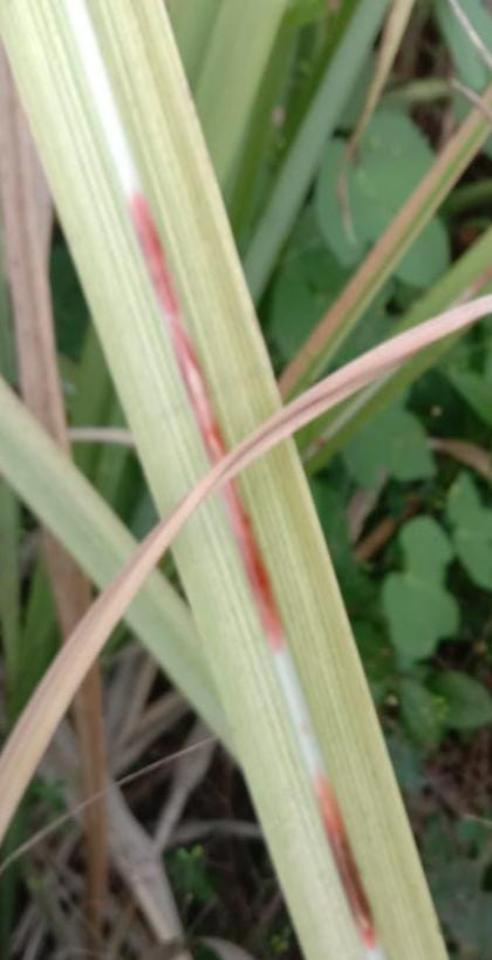RedRot: (129, 190, 228, 470), (315, 757, 377, 953), (223, 477, 289, 657)
